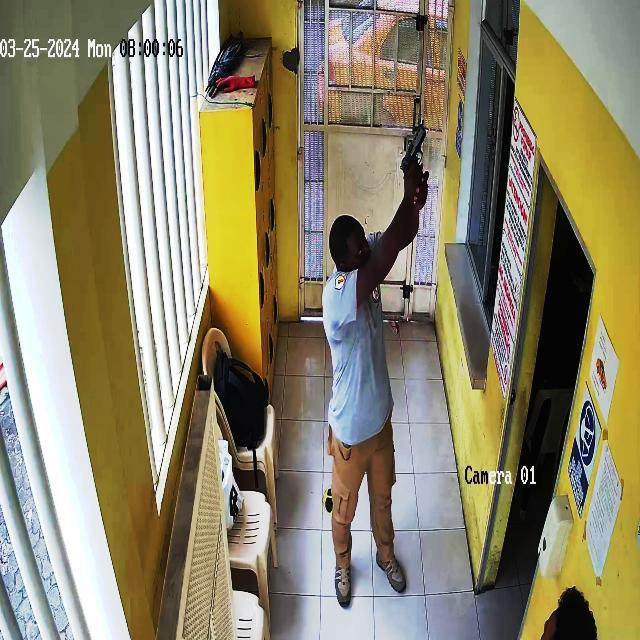Gun: (397, 103, 438, 181)
